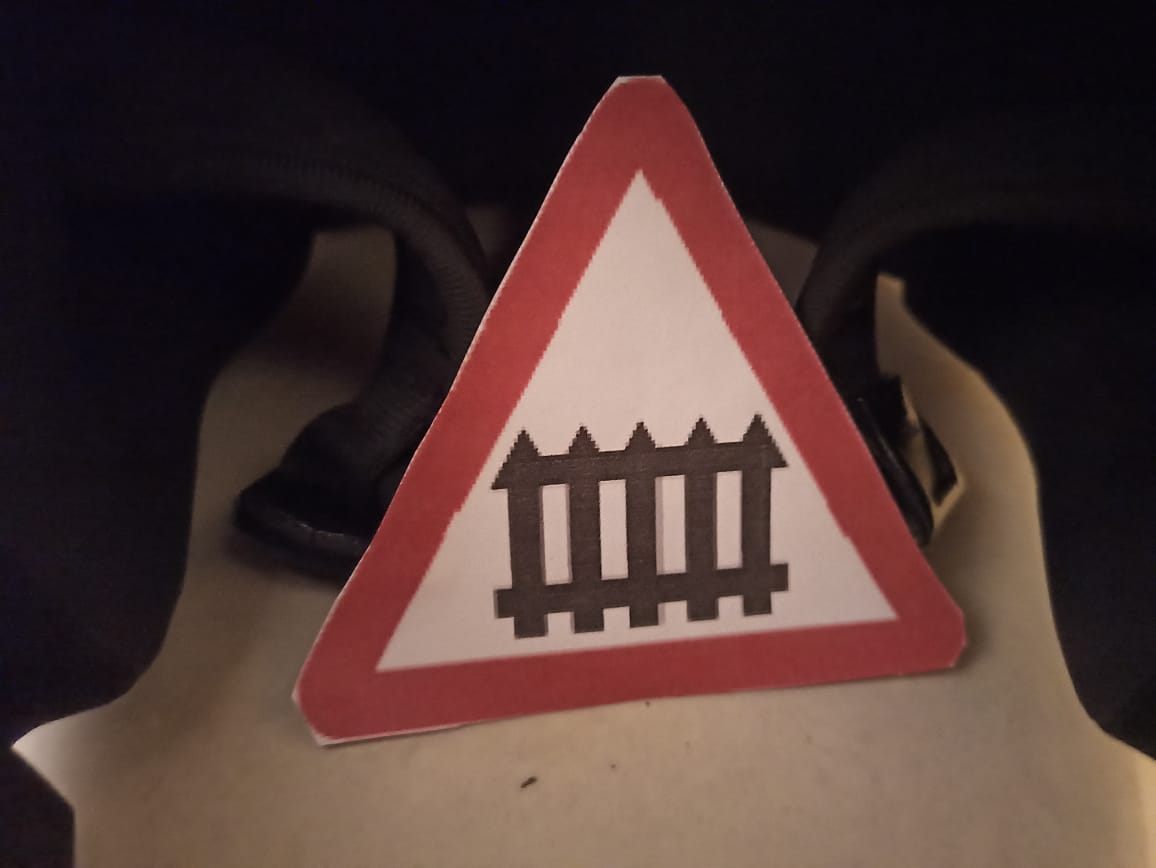GUARDED LEVEL CROSSING: (289, 58, 1000, 683)
